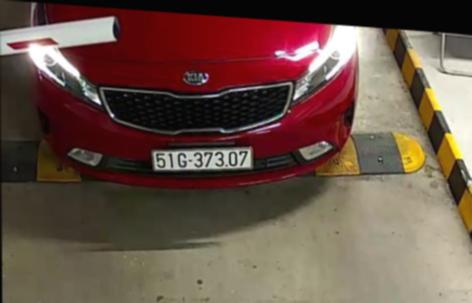License_Plate: (148, 137, 254, 178)
